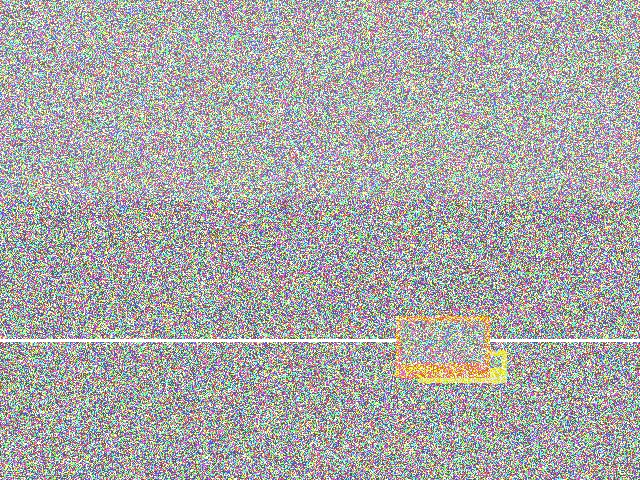truck: (385, 119, 485, 224)
